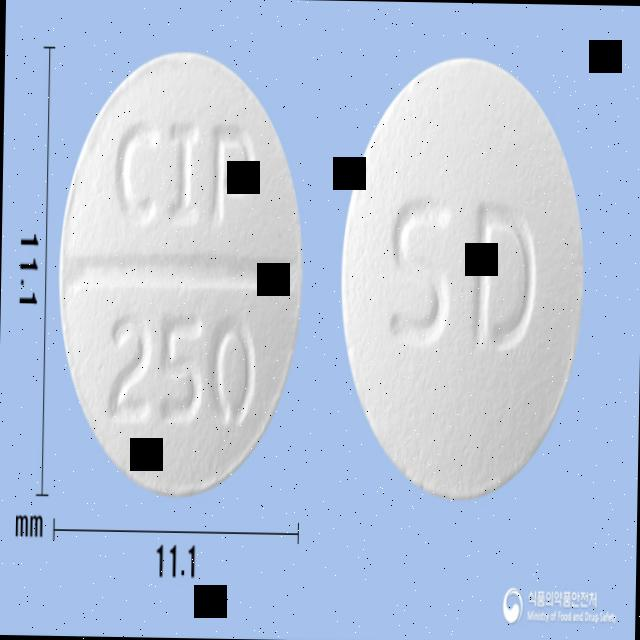Wooridul Ciprofloxacin Tab: (54, 48, 308, 500), (336, 54, 588, 504)
